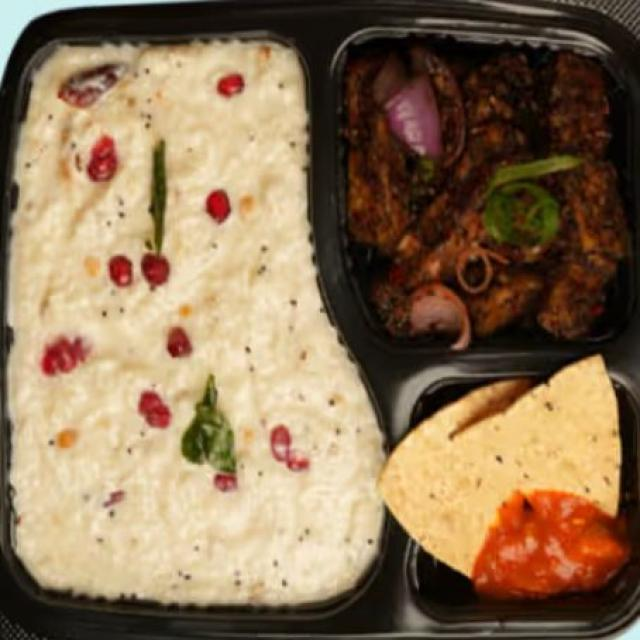CHICKEN FRY: (347, 40, 627, 335)
CURD RICE: (4, 47, 388, 612)
PAPADAM: (375, 353, 625, 606)
